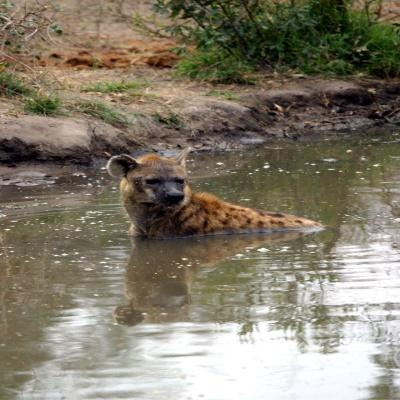hyenas: (82, 117, 332, 265)
